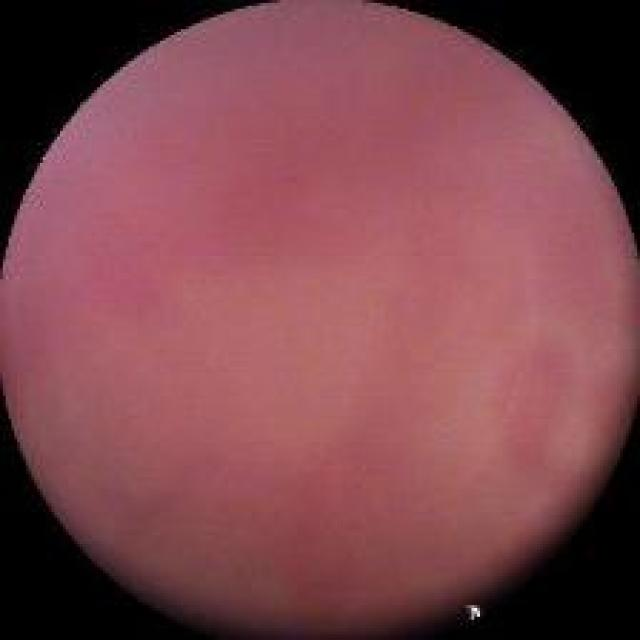blur: (12, 16, 621, 623)
